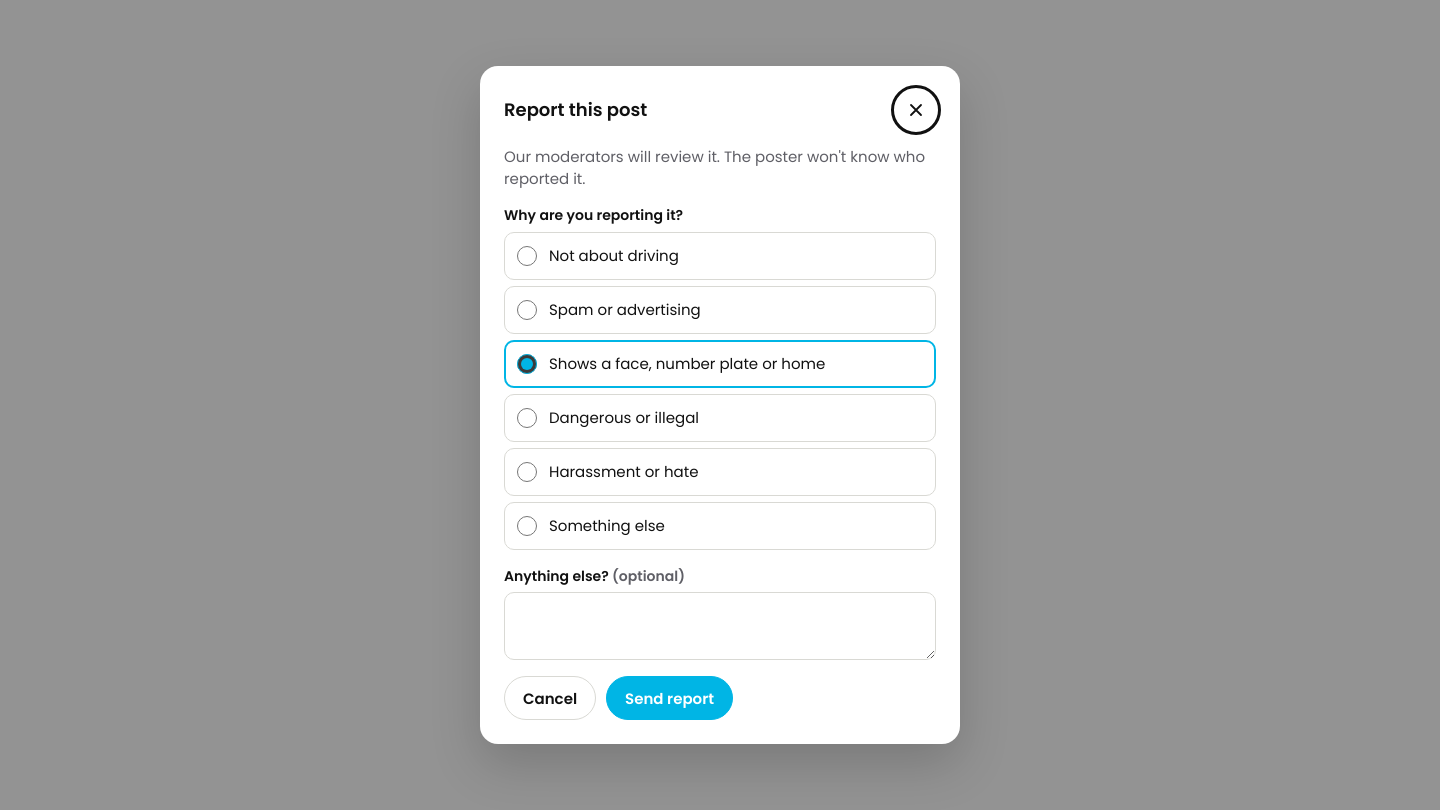
Scenario: ReportDialog › shows the server's message when the report is refused
Click the button "Send report".
click(670, 698)  # box [606, 676, 733, 720]
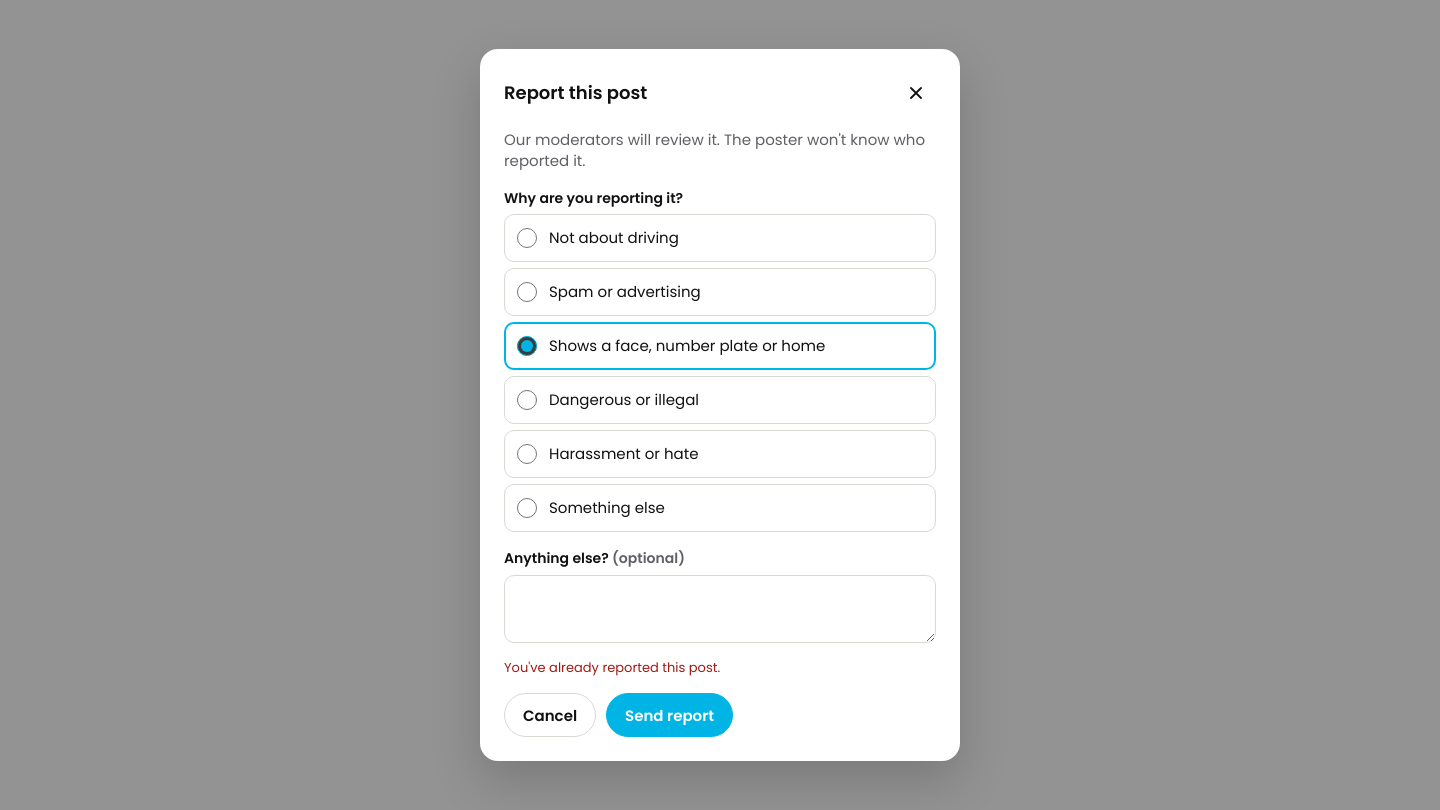
Check: the message reads "You've already reported this post.", box [504, 658, 720, 677]
